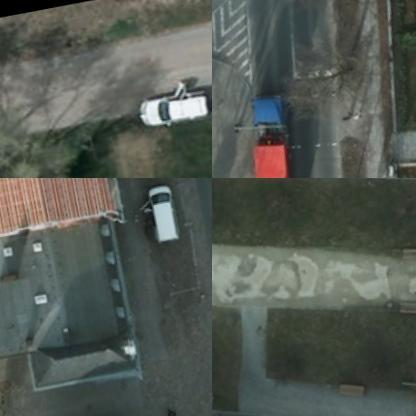car: (134, 86, 210, 128)
van: (146, 185, 180, 242)
